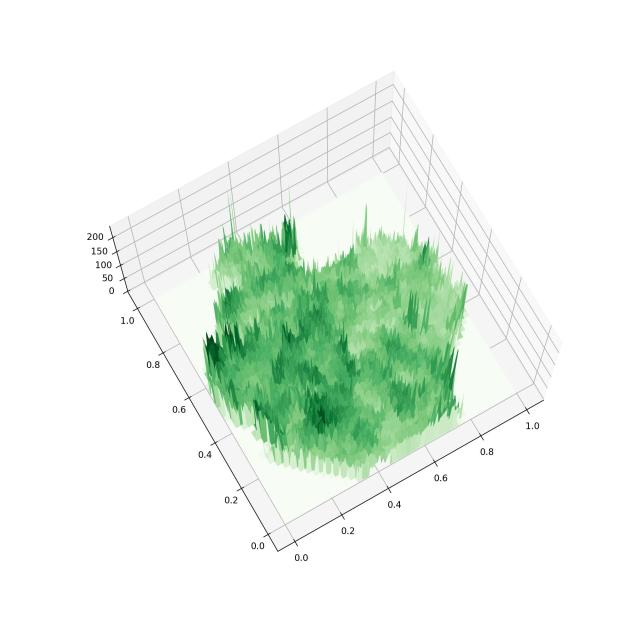fir: (69, 40, 594, 596)
